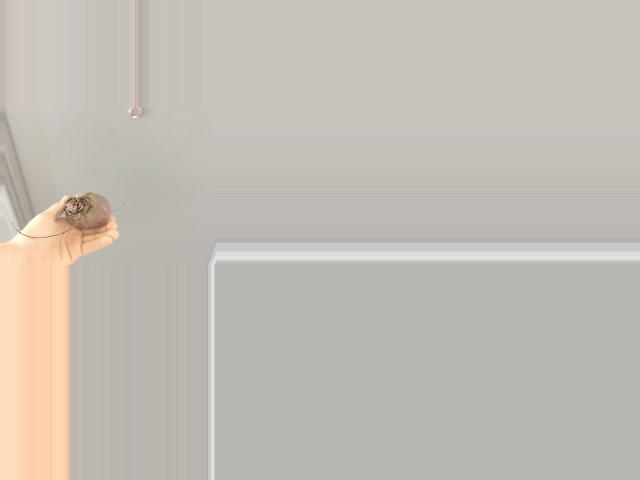beet: (12, 193, 122, 239)
